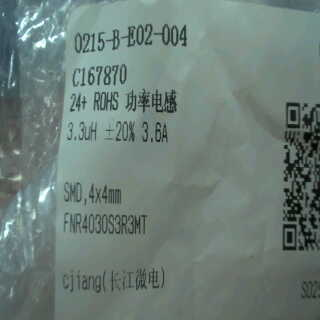3.3uH: (62, 118, 102, 146)
